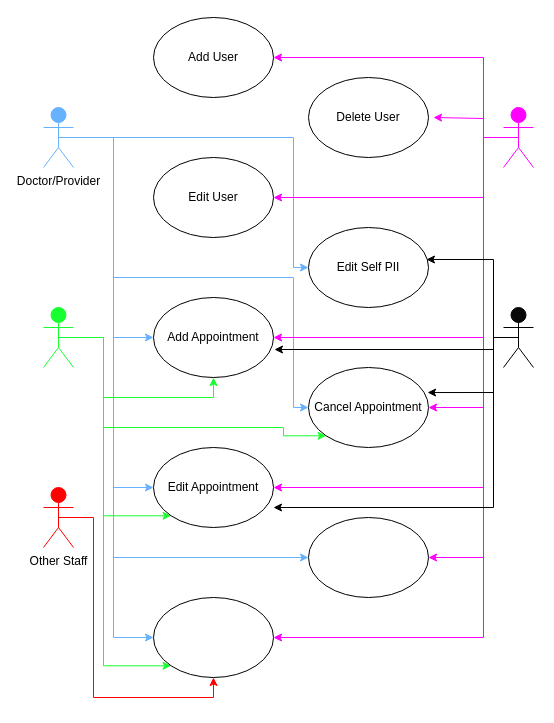
The diagram is 554 pixels wide and 723 high, and some of its shapes have lost their labels. The centre of each missing label's shape, as x and y in pixels:
"Admin" belongs at [518,137].
"Edit time slots" belongs at [368,557].
"Patient" belongs at [518,337].
"Receptionist" belongs at [58,337].
"View Schedules" belongs at [213,637].
